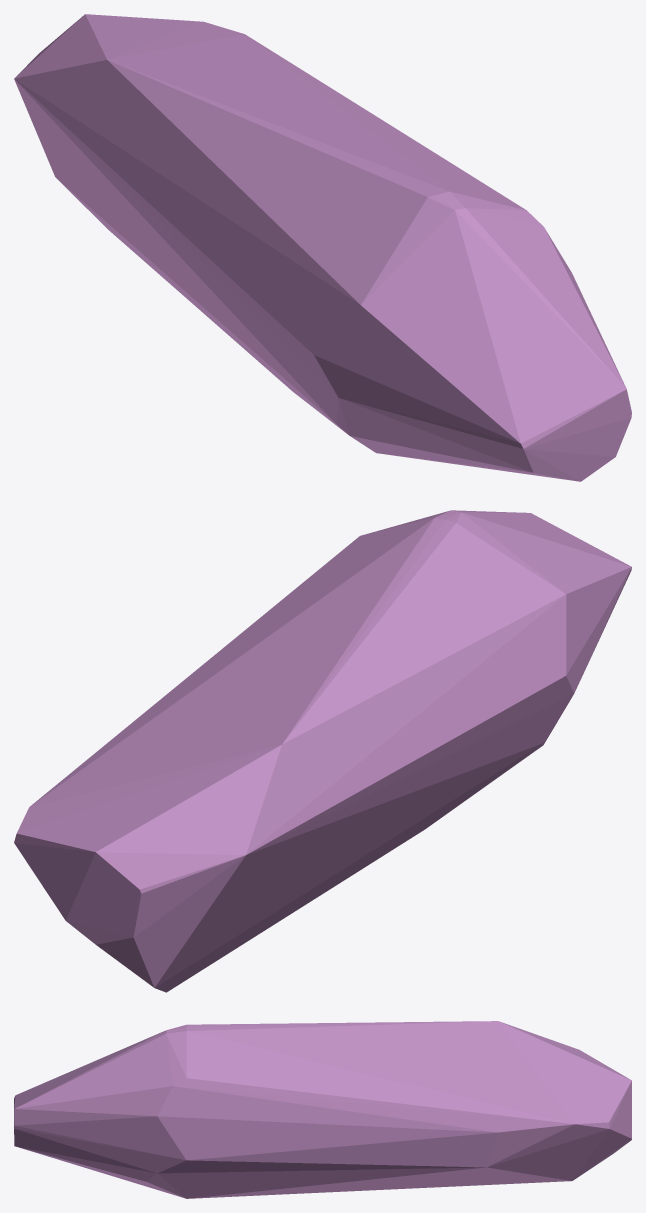
Rendered from food_beverage_bottledWater_i01.glb.
3 views of the same model, one above another, from view 1: azimuth 30°, elevation 25°; view 2: azimuth 150°, elevation 25°; view 3: azimuth 270°, elevation 25° (orthographic). The views are drawn at different scales.
Visible parts, largest first — view 1: geometry_0; view 2: geometry_0; view 3: geometry_0.
Boxes of the visible parts, <box> form: geometry_0: <box>14,14,631,481</box>; geometry_0: <box>14,510,631,992</box>; geometry_0: <box>14,1021,631,1198</box>.
Bounding box in the file's own units: 0.1393 × 0.137 × 0.48.
